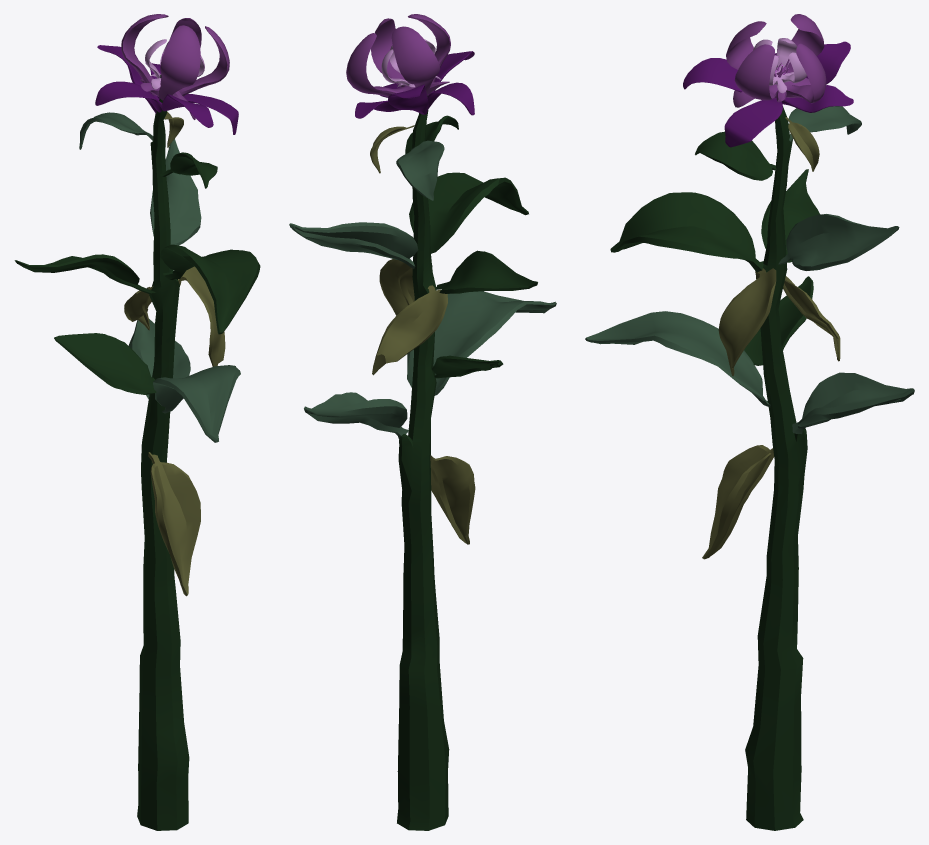
Rendered from MDL_Flower_01.fbx.
3 renders of one model, left to right at view 1: azimuth 30°, elevation 25°; view 2: azimuth 150°, elevation 25°; view 3: azimuth 270°, elevation 25°, orthographic.
Parts seen in each view (by area): view 1: MDL_Stem_01, MDL_Flower_02, MDL_Leaf_Rotten_04, MDL_Leaf_Healthy_05, MDL_Leaf_Healthy_02, MDL_Leaf_Healthy_03, MDL_Flower_01, MDL_Leaf_Healthy_06, MDL_Leaf_Healthy_04, MDL_Leaf_Healthy_01, MDL_Leaf_Rotten_01, MDL_Leaf_Healthy_07 (+3 smaller); view 2: MDL_Stem_01, MDL_Flower_02, MDL_Leaf_Healthy_02, MDL_Leaf_Healthy_05, MDL_Leaf_Healthy_06, MDL_Leaf_Rotten_03, MDL_Leaf_Healthy_01, MDL_Leaf_Rotten_04, MDL_Flower_01, MDL_Leaf_Healthy_04, MDL_Leaf_Healthy_08, MDL_Leaf_Rotten_01 (+3 smaller); view 3: MDL_Stem_01, MDL_Leaf_Healthy_05, MDL_Flower_02, MDL_Leaf_Healthy_02, MDL_Flower_01, MDL_Leaf_Healthy_06, MDL_Leaf_Healthy_01, MDL_Leaf_Rotten_04, MDL_Leaf_Rotten_01, MDL_Leaf_Healthy_07, MDL_Leaf_Healthy_04, MDL_Leaf_Healthy_03 (+4 smaller).
Part boxes in pixels (<box>): MDL_Stem_01: <box>137,74,189,830</box>; MDL_Flower_02: <box>121,14,229,119</box>; MDL_Leaf_Rotten_04: <box>148,452,200,596</box>; MDL_Leaf_Healthy_05: <box>160,244,260,334</box>; MDL_Leaf_Healthy_02: <box>153,365,240,442</box>; MDL_Leaf_Healthy_03: <box>54,333,156,394</box>; MDL_Flower_01: <box>95,45,238,134</box>; MDL_Leaf_Healthy_06: <box>150,139,201,245</box>; MDL_Leaf_Healthy_04: <box>14,254,155,294</box>; MDL_Leaf_Healthy_01: <box>128,319,190,398</box>; MDL_Leaf_Rotten_01: <box>178,266,225,366</box>; MDL_Leaf_Healthy_07: <box>160,152,217,188</box>; MDL_Stem_01: <box>397,95,449,830</box>; MDL_Flower_02: <box>346,14,450,96</box>; MDL_Leaf_Healthy_02: <box>407,291,556,395</box>; MDL_Leaf_Healthy_05: <box>409,172,528,266</box>; MDL_Leaf_Healthy_06: <box>289,222,418,268</box>; MDL_Leaf_Rotten_03: <box>372,285,447,375</box>; MDL_Leaf_Healthy_01: <box>304,392,408,439</box>; MDL_Leaf_Rotten_04: <box>430,455,475,544</box>; MDL_Flower_01: <box>355,51,474,118</box>; MDL_Leaf_Healthy_04: <box>436,250,537,293</box>; MDL_Leaf_Healthy_08: <box>396,140,444,200</box>; MDL_Leaf_Rotten_01: <box>379,259,414,315</box>; MDL_Stem_01: <box>745,67,807,830</box>; MDL_Leaf_Healthy_05: <box>610,192,763,272</box>; MDL_Flower_02: <box>726,14,826,107</box>; MDL_Leaf_Healthy_02: <box>585,311,770,407</box>; MDL_Flower_01: <box>683,41,853,147</box>; MDL_Leaf_Healthy_06: <box>778,214,899,270</box>; MDL_Leaf_Healthy_01: <box>792,372,914,434</box>; MDL_Leaf_Rotten_04: <box>702,445,774,559</box>; MDL_Leaf_Rotten_01: <box>718,268,776,376</box>; MDL_Leaf_Healthy_07: <box>695,131,776,180</box>; MDL_Leaf_Healthy_04: <box>761,169,819,262</box>; MDL_Leaf_Healthy_03: <box>744,276,813,365</box>.
Bounding box in the file's own units: 342 × 1278 × 475.
